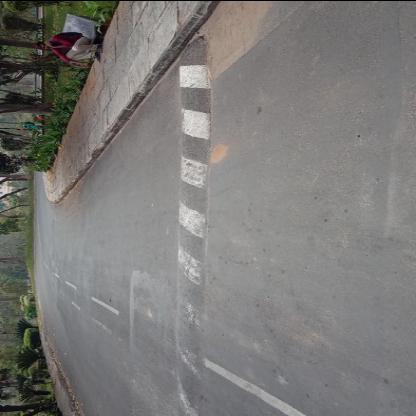speed-bumps: (161, 26, 217, 415)
